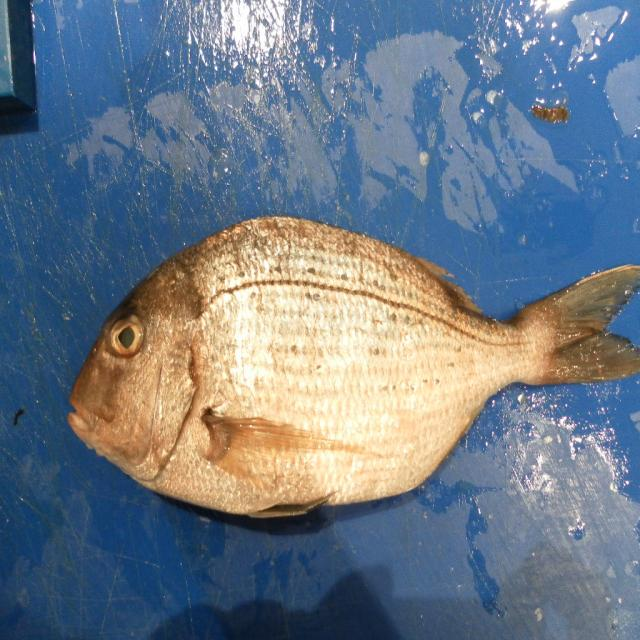Red-Sea-Bream-mercan-: (66, 217, 640, 525)
